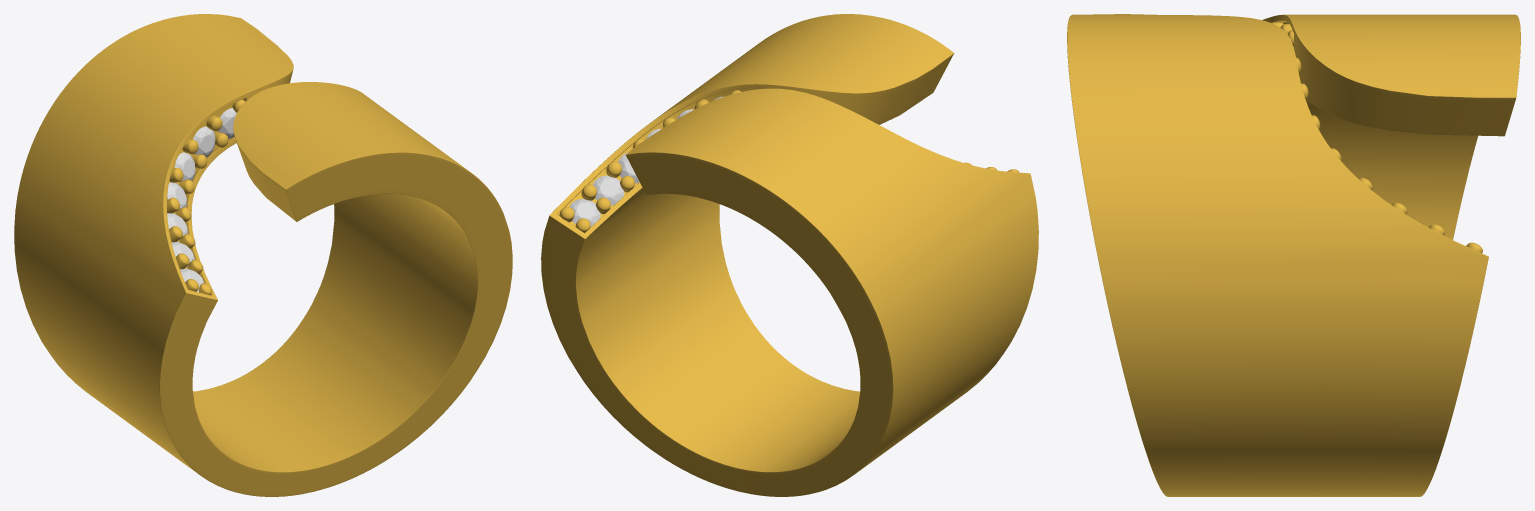
The model's file is Ring_A_Optimazed_02_StoneCuts.fbx.
3 renders of one model, left to right at view 1: azimuth 30°, elevation 25°; view 2: azimuth 150°, elevation 25°; view 3: azimuth 270°, elevation 25°, orthographic. The views are drawn at different scales.
Parts seen in each view (by area): view 1: Ring_A_02_01_Object, Ring_A_02_02_Object, Ring_A_02_Diamod_Object; view 2: Ring_A_02_01_Object, Ring_A_02_Diamod_Object, Ring_A_02_02_Object; view 3: Ring_A_02_01_Object, Ring_A_02_02_Object.
Part boxes in pixels (x1,y1,x2,y2): Ring_A_02_01_Object: (14, 14, 512, 496); Ring_A_02_02_Object: (167, 99, 245, 295); Ring_A_02_Diamod_Object: (167, 108, 236, 292); Ring_A_02_01_Object: (541, 14, 1038, 496); Ring_A_02_Diamod_Object: (569, 96, 723, 226); Ring_A_02_02_Object: (559, 88, 1019, 232); Ring_A_02_01_Object: (1067, 14, 1520, 496); Ring_A_02_02_Object: (1272, 22, 1482, 253).
Bounding box in the file's own units: 2.15 × 2.15 × 2.03.
